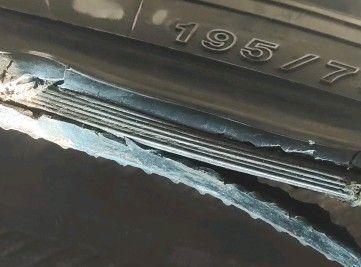bead_damage: (0, 49, 360, 266)
